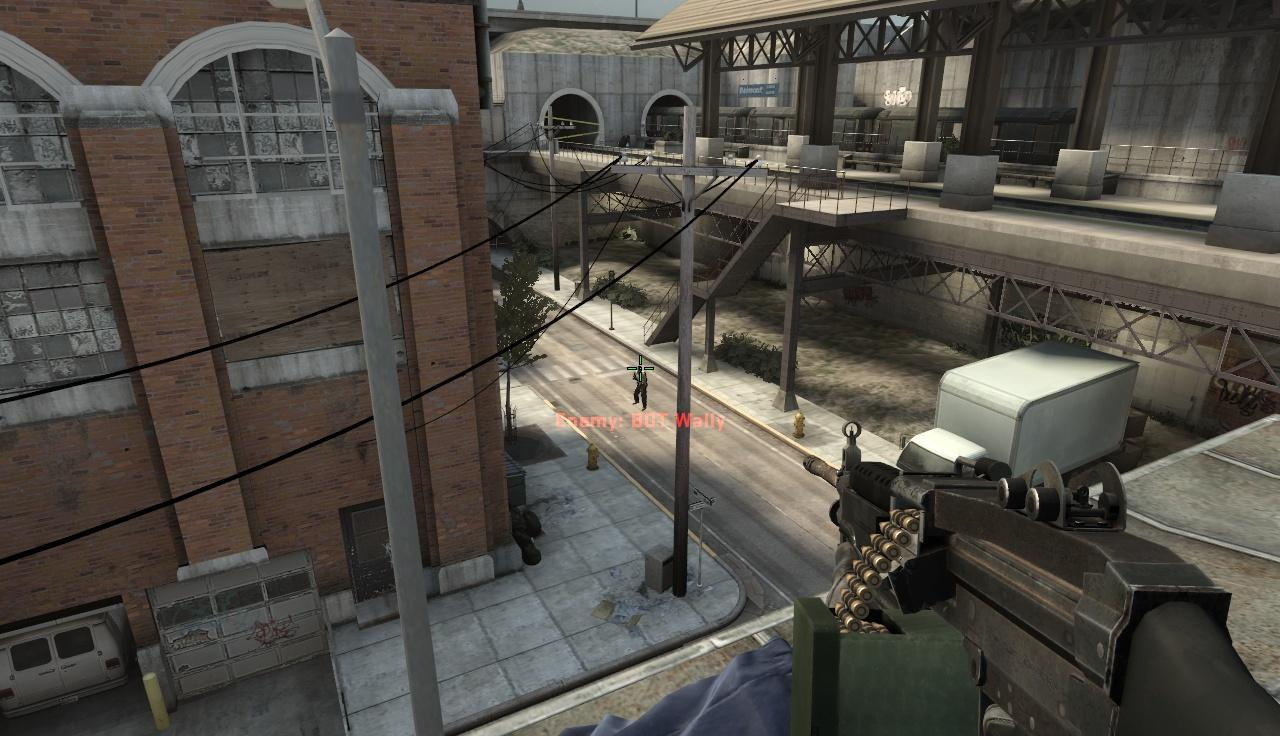rifle: (816, 417, 1280, 732)
tt: (632, 367, 649, 411)
tthead: (637, 366, 642, 373)
